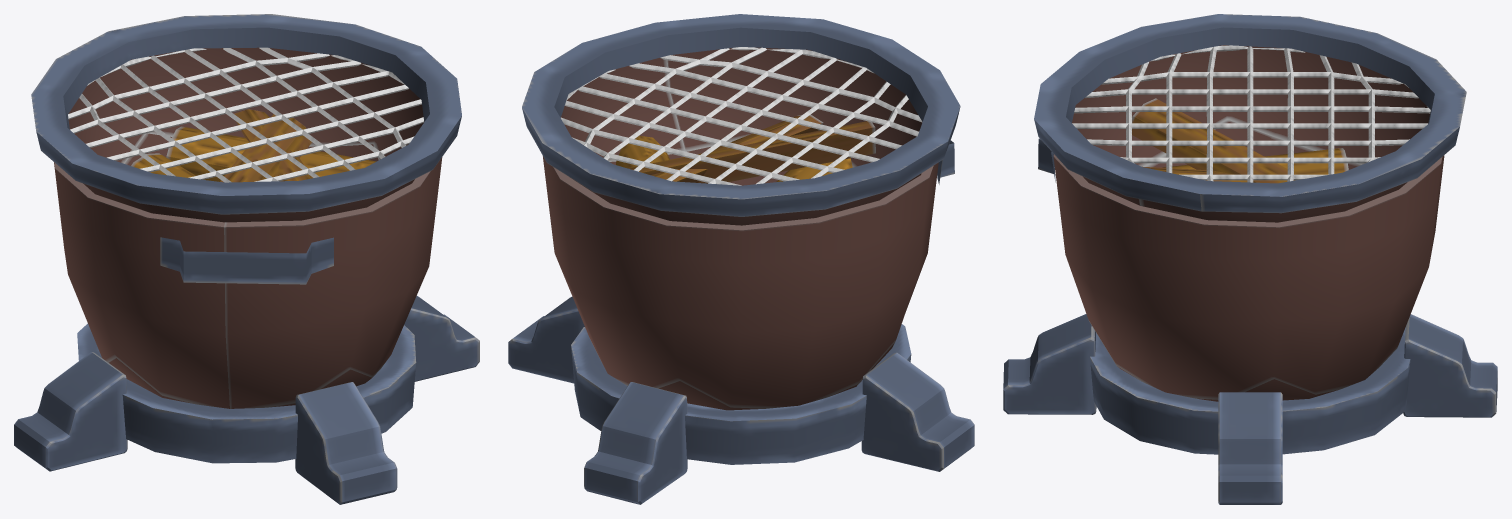
File: Stove1-optimized.glb
3 views of the same model, side by side, from view 1: azimuth 30°, elevation 25°; view 2: azimuth 150°, elevation 25°; view 3: azimuth 270°, elevation 25° (orthographic).
Visible parts, largest first — view 1: Cube.072, Cylinder.032; view 2: Cube.072, Cylinder.032; view 3: Cube.072, Cylinder.032.
Boxes of the visible parts, <box> form: Cube.072: <box>14,14,479,504</box>; Cylinder.032: <box>131,109,376,182</box>; Cube.072: <box>508,14,974,504</box>; Cylinder.032: <box>616,114,875,183</box>; Cube.072: <box>1003,14,1497,504</box>; Cylinder.032: <box>1132,98,1348,183</box>.
Size of the model in its own units: 0.5447 by 0.3804 by 0.5456.
1 material, 1 textured.
